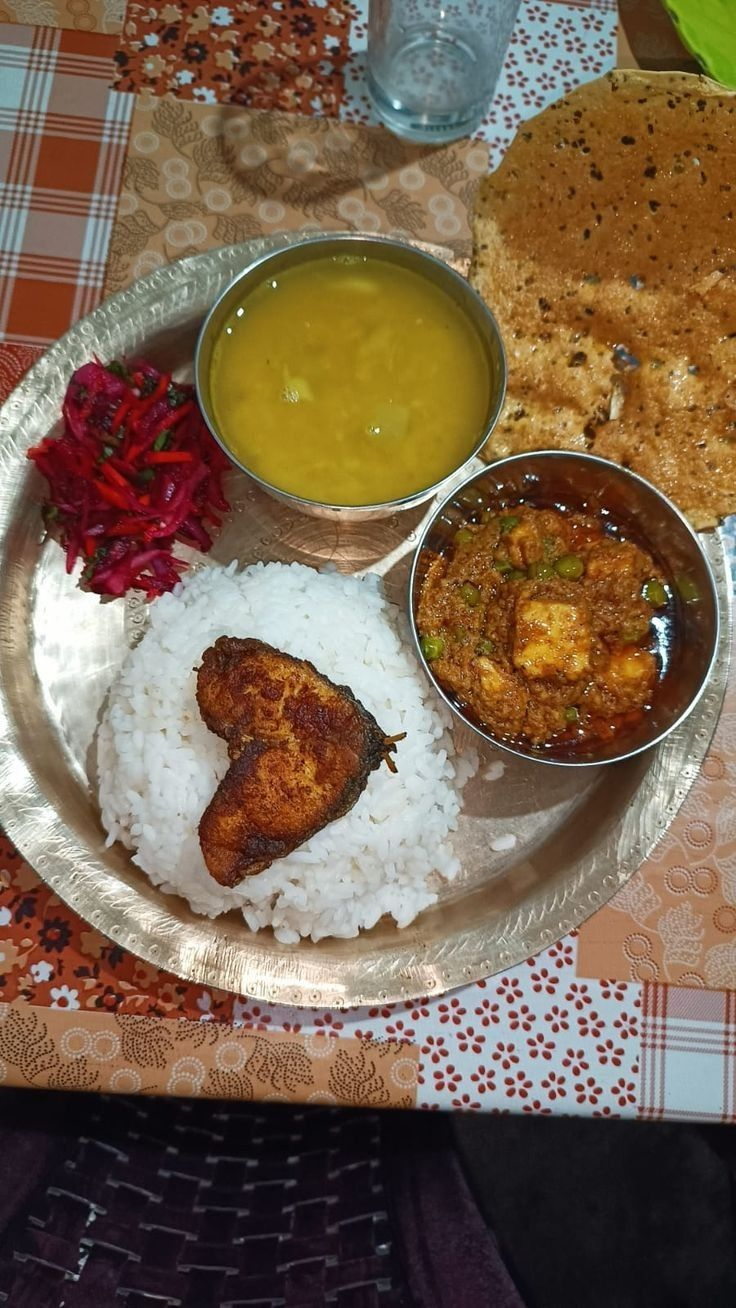bhat: (85, 566, 464, 927)
dal: (227, 256, 478, 503)
sabji: (444, 498, 686, 766), (37, 354, 205, 595)
